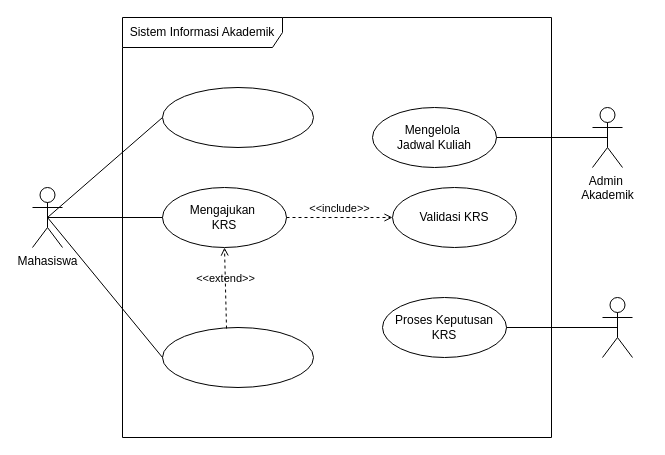
Some shapes in this 665 by 455 pixel diagram are drawn without their labels. Each missing label, with the box of its shape:
Dosen Wali: (602, 296, 632, 358)
Melihat Jadwal Kuliah: (162, 86, 314, 148)
Mengunduh Bukti Pengajuan: (162, 326, 314, 388)
